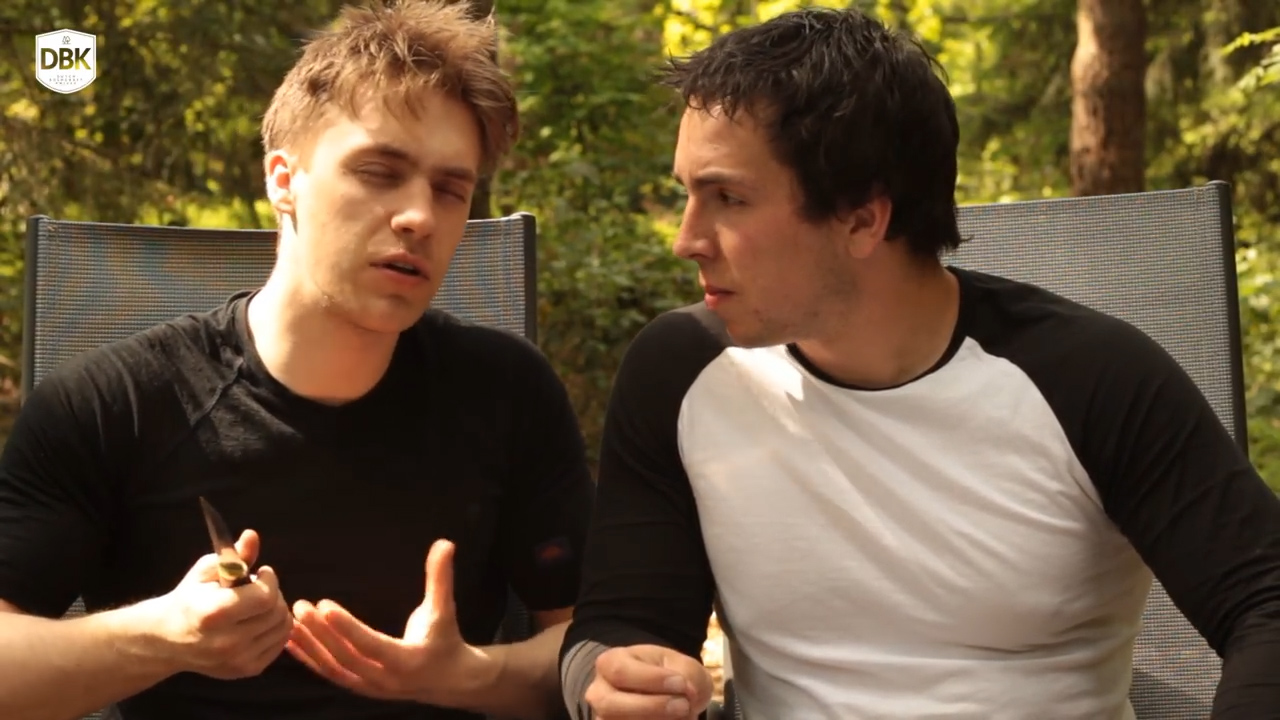knife: (172, 467, 297, 647)
